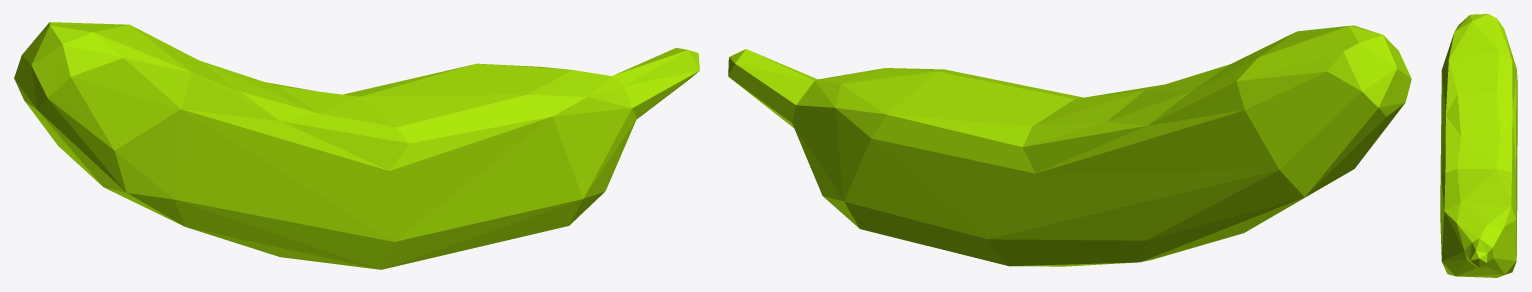
File: Banana.fbx
The picture shows the model from 3 angles, left to right: view 1: azimuth 30°, elevation 25°; view 2: azimuth 150°, elevation 25°; view 3: azimuth 270°, elevation 25°; orthographic projection. The views are drawn at different scales.
Parts seen in each view (by area): view 1: Cube.006; view 2: Cube.006; view 3: Cube.006.
Part boxes in pixels (bbox=[...]): Cube.006: bbox=[14, 22, 699, 269]; Cube.006: bbox=[728, 25, 1411, 266]; Cube.006: bbox=[1440, 14, 1517, 277].
Size of the model in its own units: 744 by 314 by 149.
